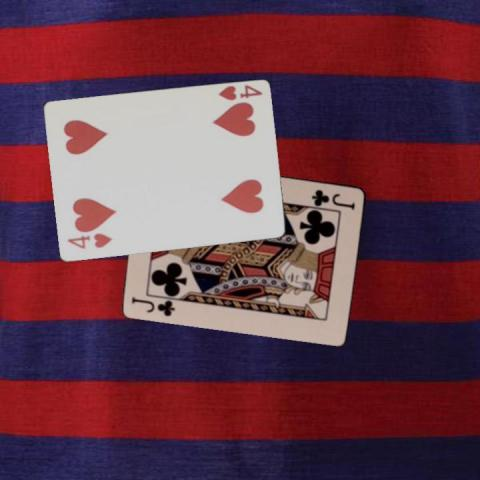4h: (215, 82, 264, 102), (64, 232, 113, 251)
Jc: (309, 186, 357, 210), (129, 294, 177, 318)
